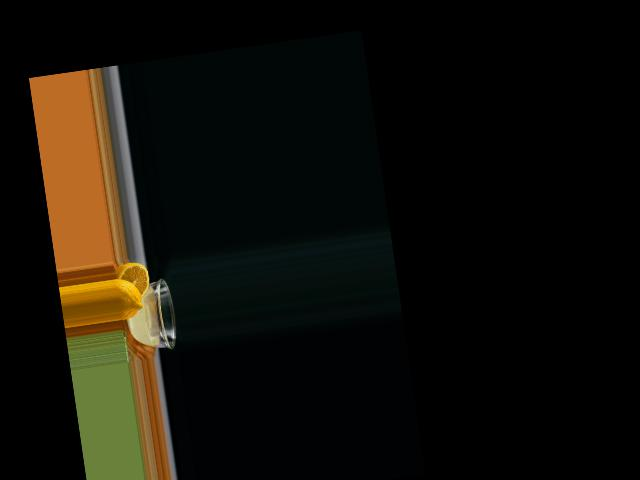lemon: (112, 262, 154, 320)
